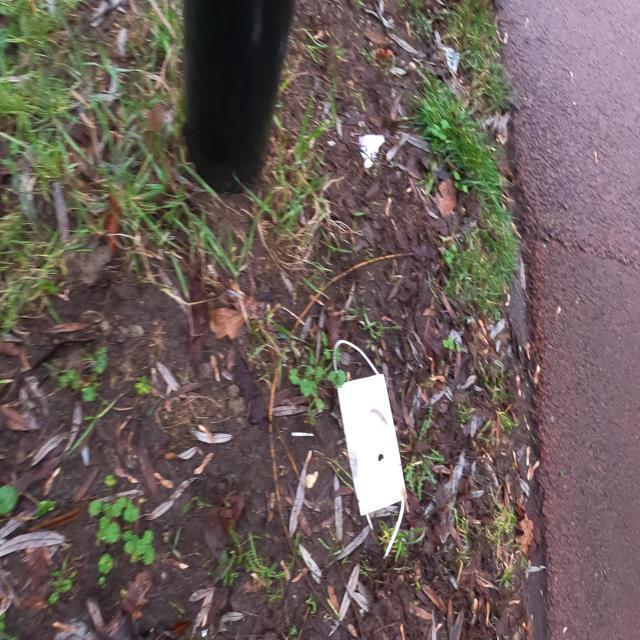Mask: (332, 337, 408, 560)
Paper: (357, 132, 386, 172)
